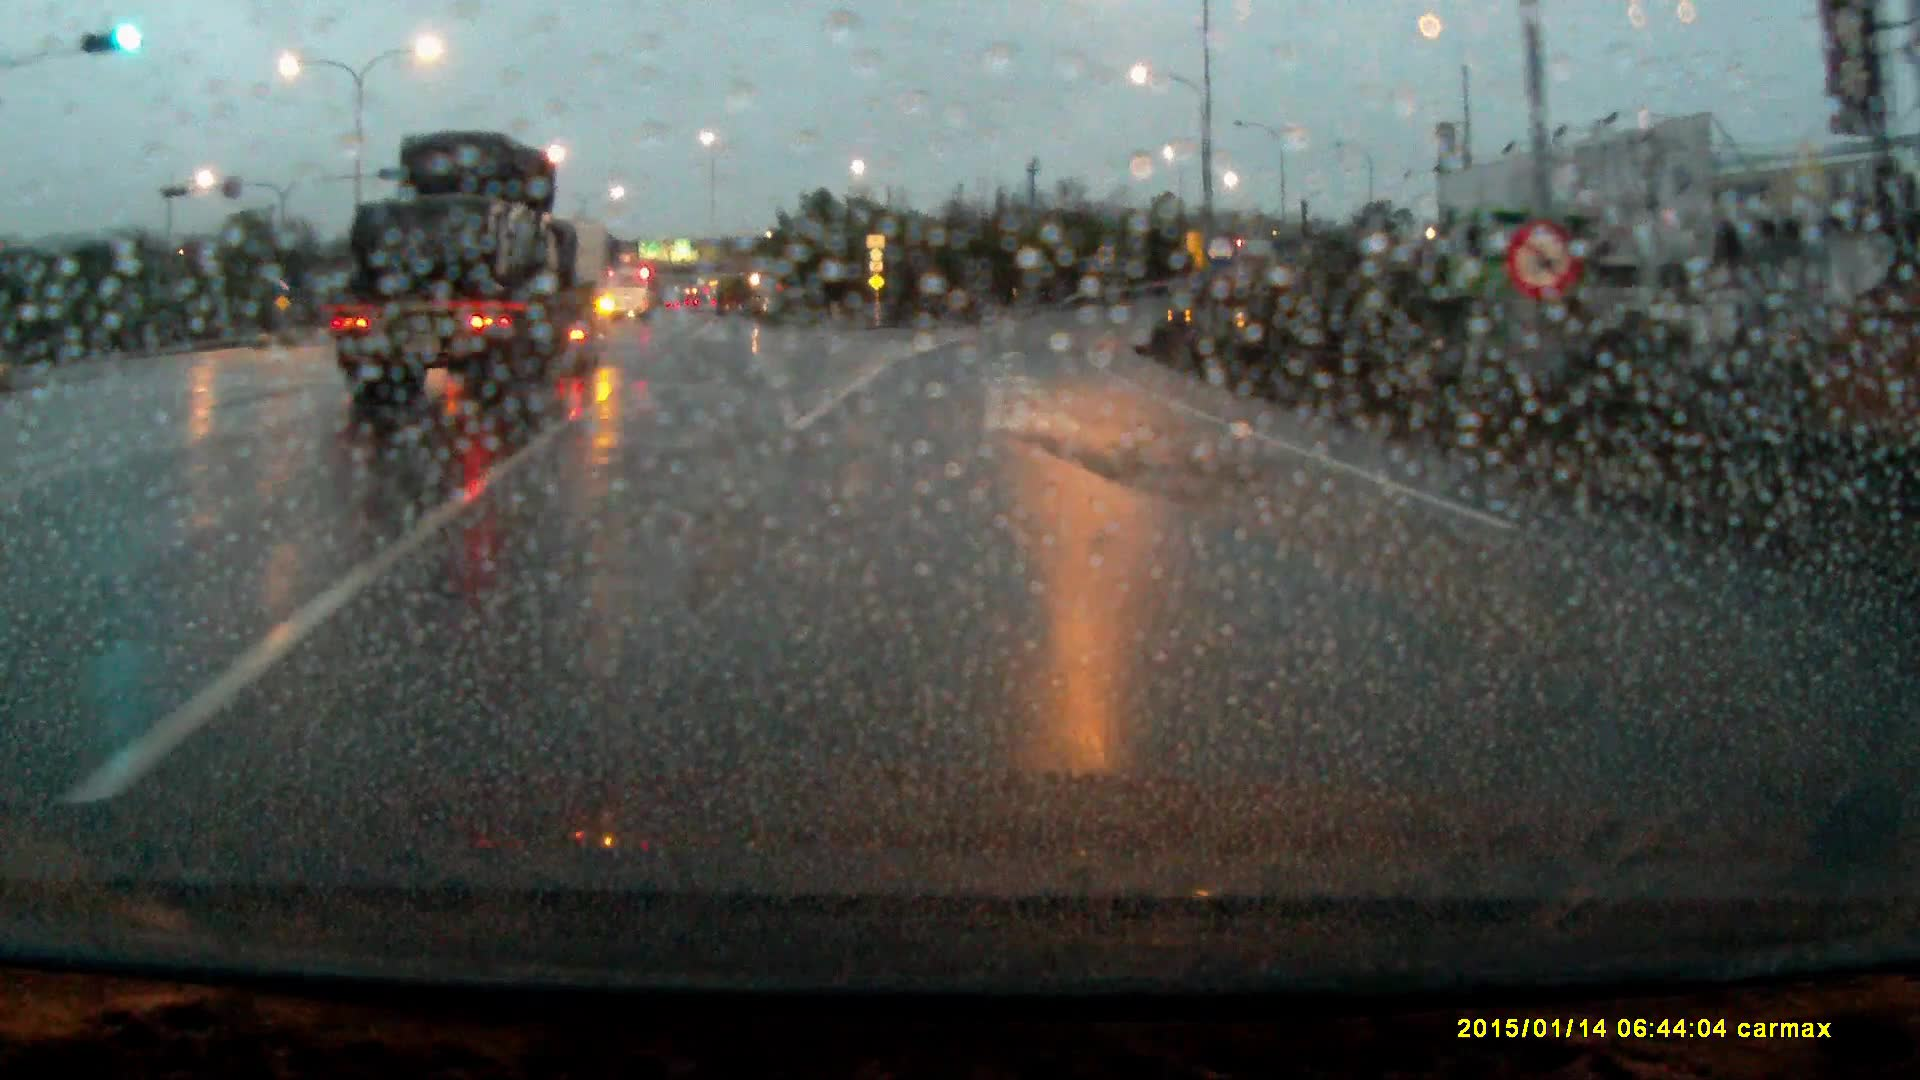vehicle: (323, 132, 615, 421), (607, 262, 662, 320)
